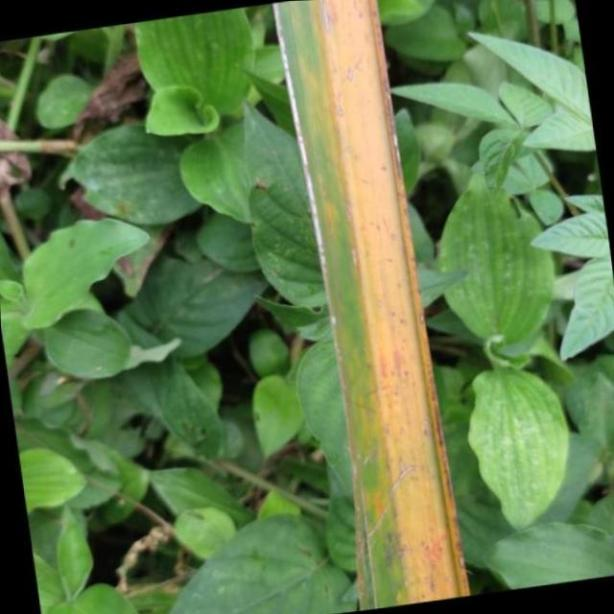Megnesium: (274, 0, 484, 610)
